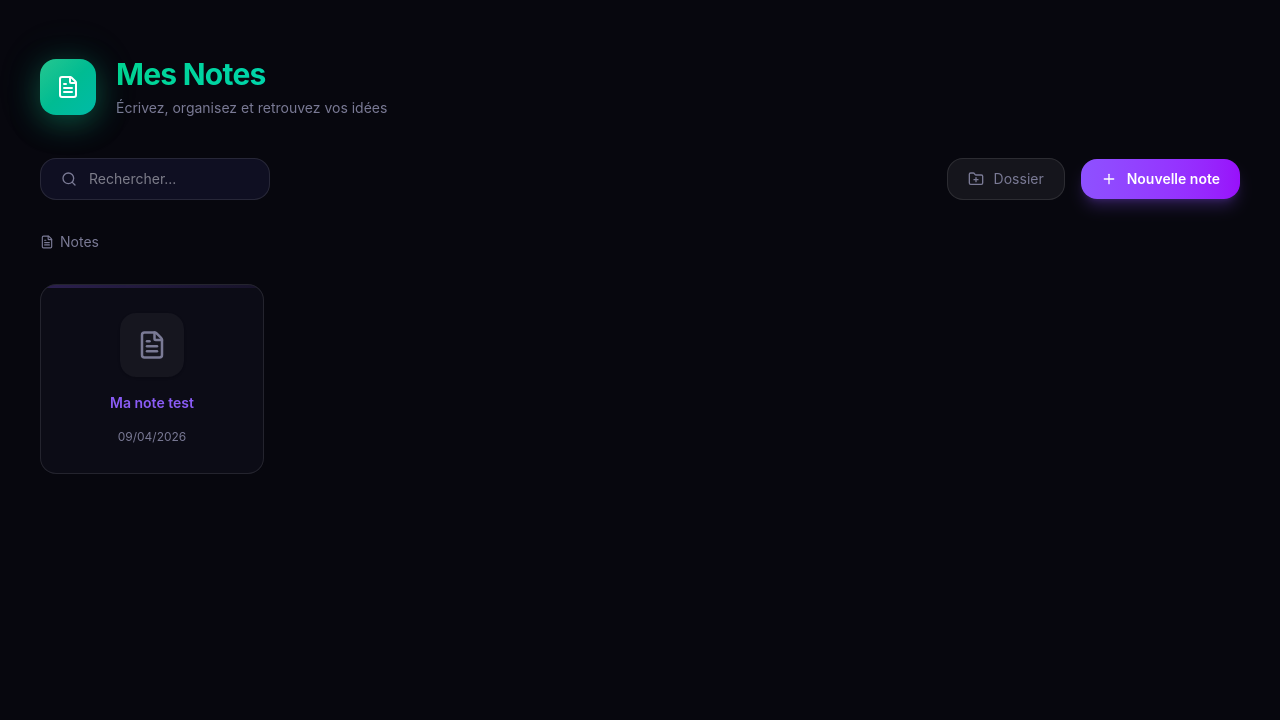
Notes - Browser view › shows template picker on new note click
The image size is (1280, 720).
Click the button "Nouvelle note": (1160, 179) [1081,159,1240,199]
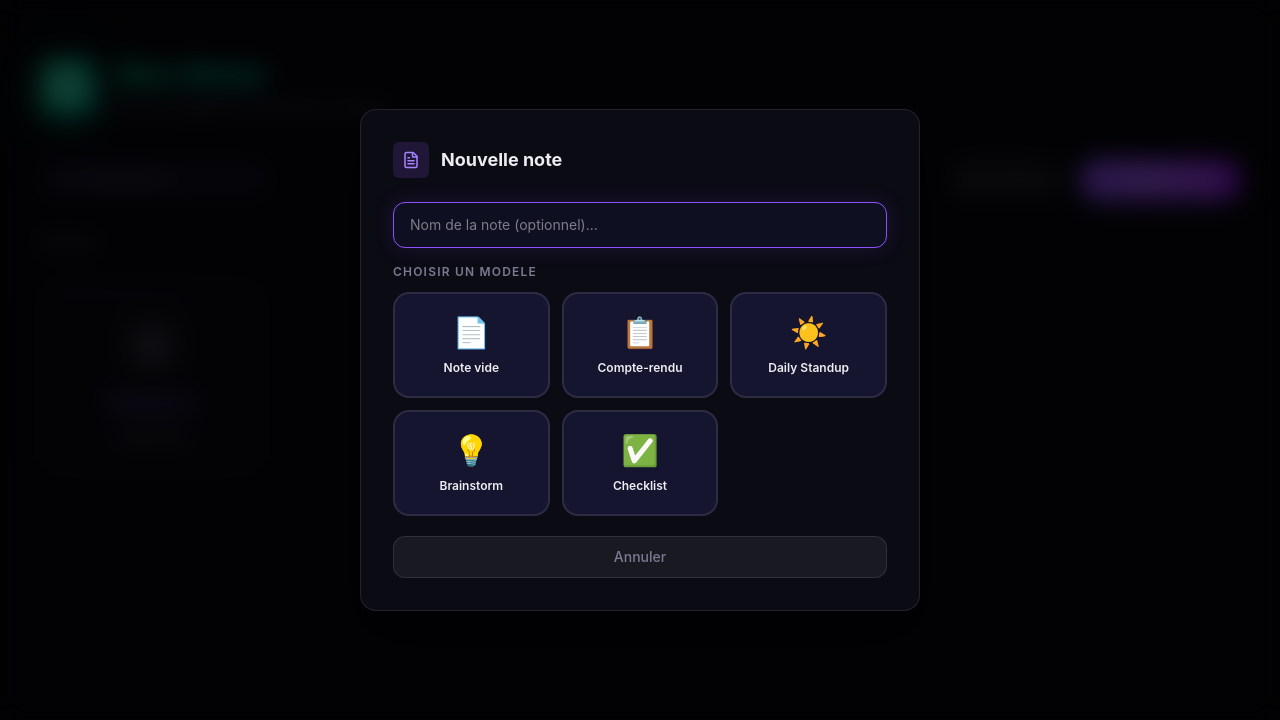
Now the text "Choisir un modele" is shown, box [393,264,537,279]
